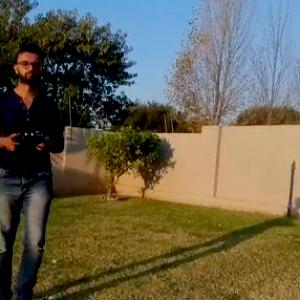follow: (0, 38, 68, 299)
